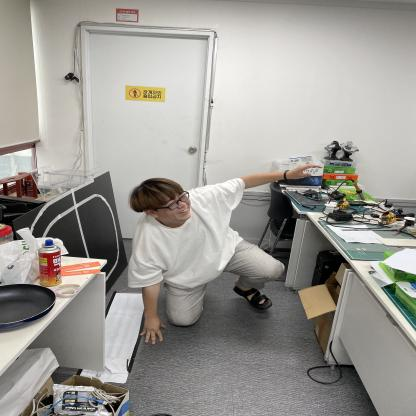fall: (130, 156, 318, 345)
